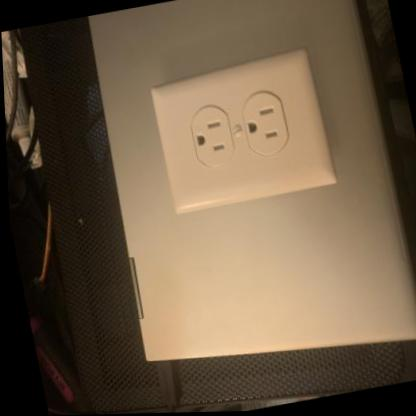OUTLET: (143, 44, 336, 217)
